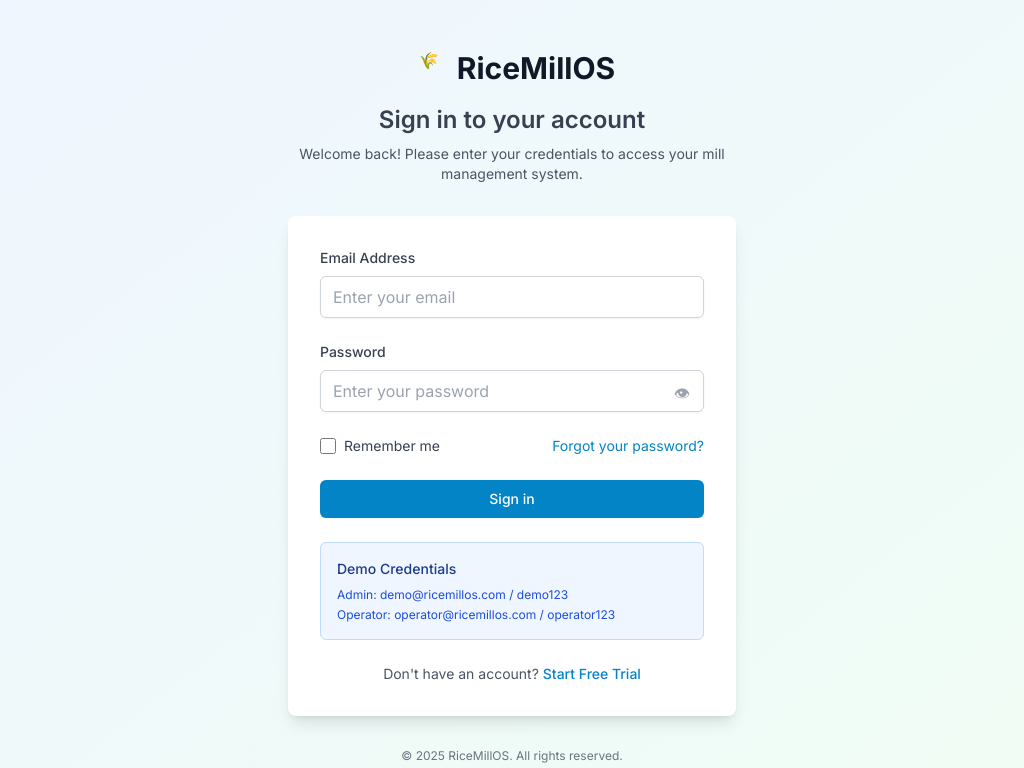
Scenario: Authentication Integration Tests › Login Flow › should handle login errors gracefully
The image size is (1024, 768).
Type "wrong@example.com" into the field labelled "Email Address" at [512, 297], box [320,276,704,318]
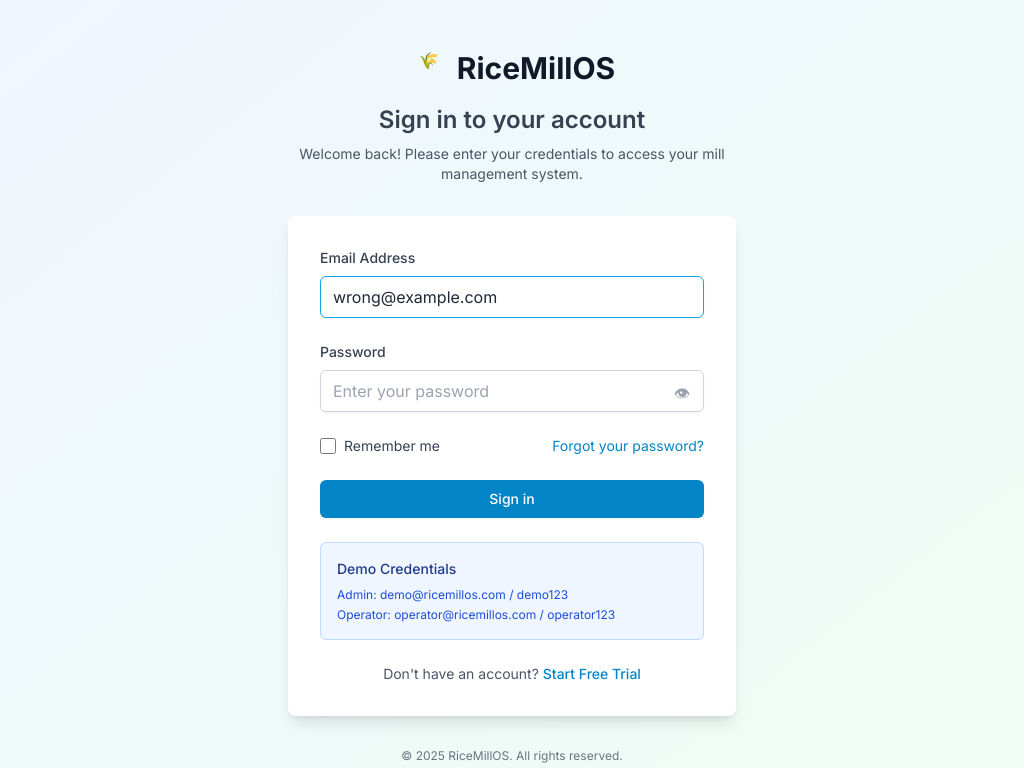
Type "wrongpassword" into the password field labelled "Password" at [512, 391], box [320,370,704,412]
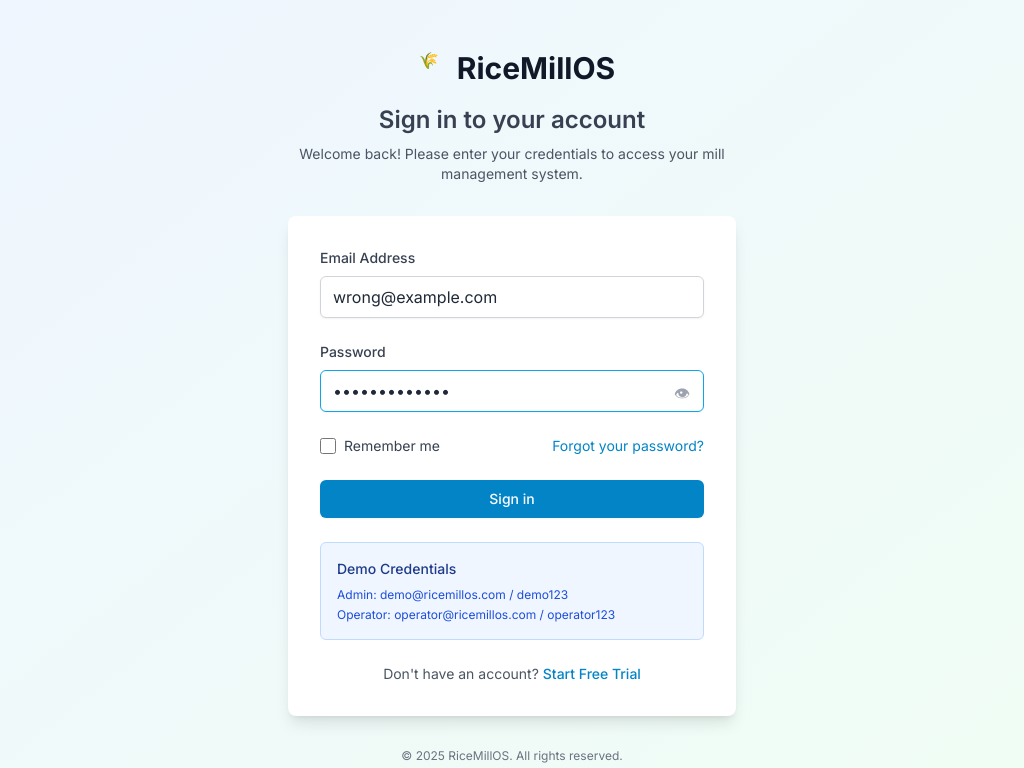
Click the button "Sign in" at [512, 499], box [320,480,704,518]
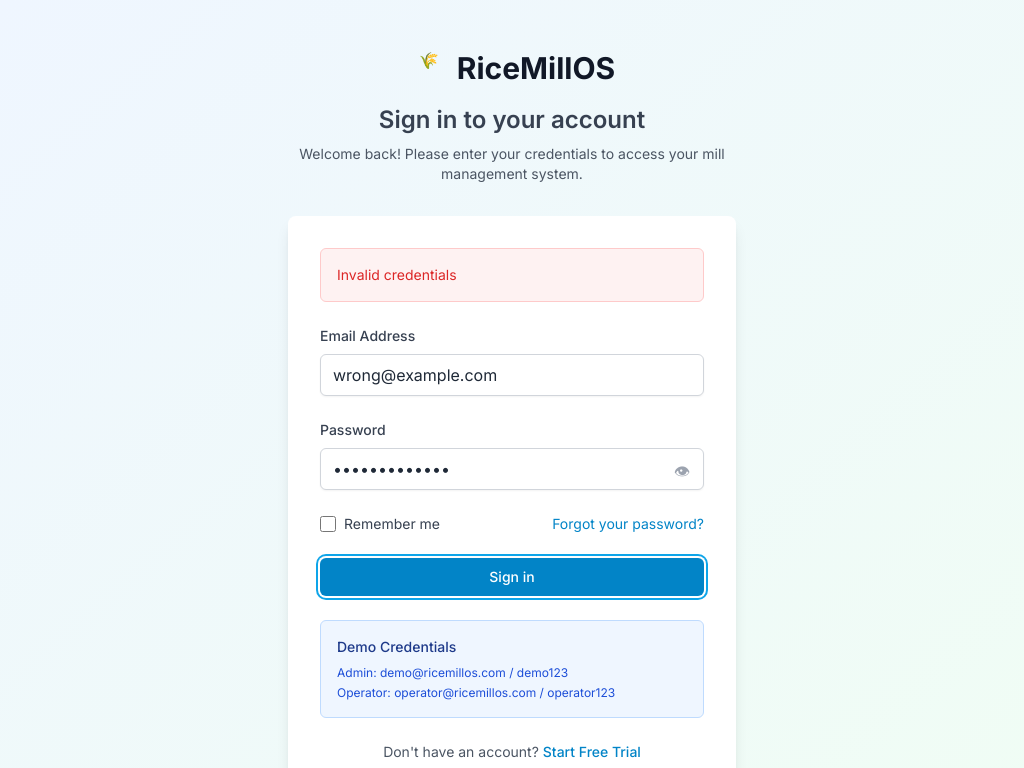
Expected: the field labelled "Email Address" is enabled, [320,354,704,396]
Now the text "Invalid credentials" is shown, box [337,266,457,283]
